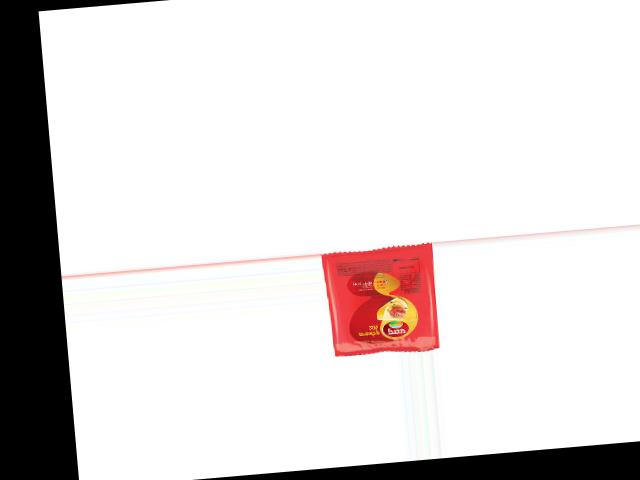cheese: (325, 241, 441, 357)
